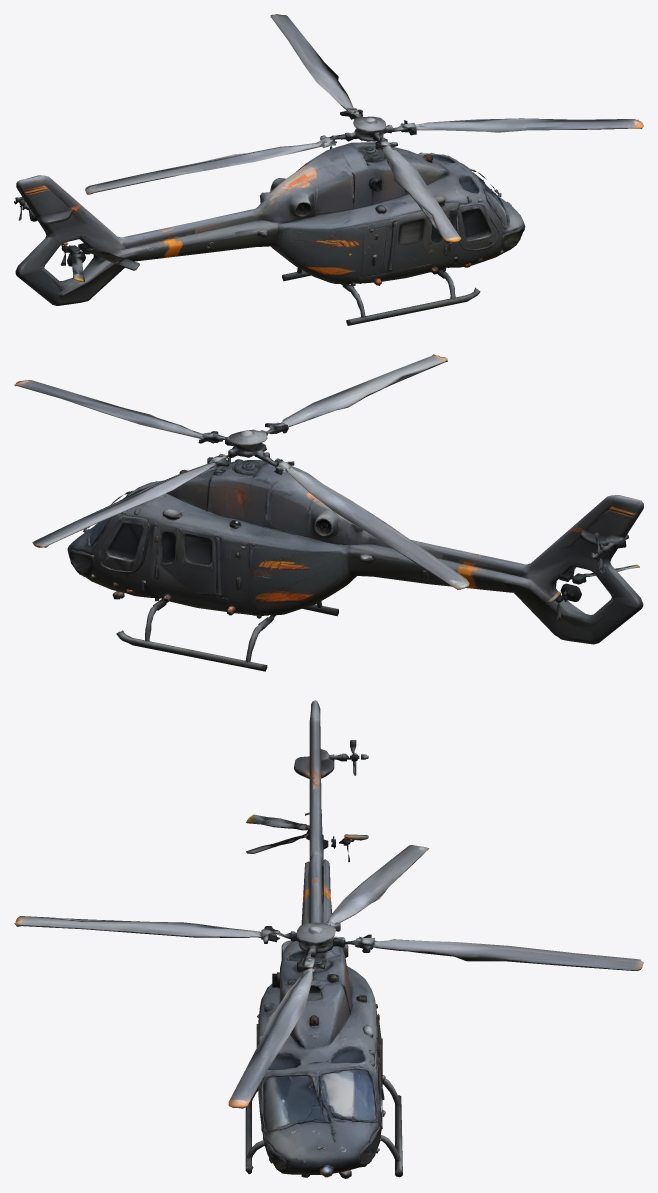
The model's file is heli.glb.
The picture shows the model from 3 angles, top to bottom: view 1: azimuth 30°, elevation 25°; view 2: azimuth 150°, elevation 25°; view 3: azimuth 270°, elevation 25°; orthographic projection. The views are drawn at different scales.
Visible parts, largest first — view 1: tripo_node_eb909b3d-d5a3-45ad-aa51-1cda9e1b2e2f; view 2: tripo_node_eb909b3d-d5a3-45ad-aa51-1cda9e1b2e2f; view 3: tripo_node_eb909b3d-d5a3-45ad-aa51-1cda9e1b2e2f.
Boxes of the visible parts, bbox=[...] form: tripo_node_eb909b3d-d5a3-45ad-aa51-1cda9e1b2e2f: bbox=[14, 14, 643, 325]; tripo_node_eb909b3d-d5a3-45ad-aa51-1cda9e1b2e2f: bbox=[14, 354, 643, 671]; tripo_node_eb909b3d-d5a3-45ad-aa51-1cda9e1b2e2f: bbox=[14, 700, 643, 1178].
Bounding box in the file's own units: 0.998 × 0.3301 × 0.791.
Materials: 1 (1 with a texture image).
